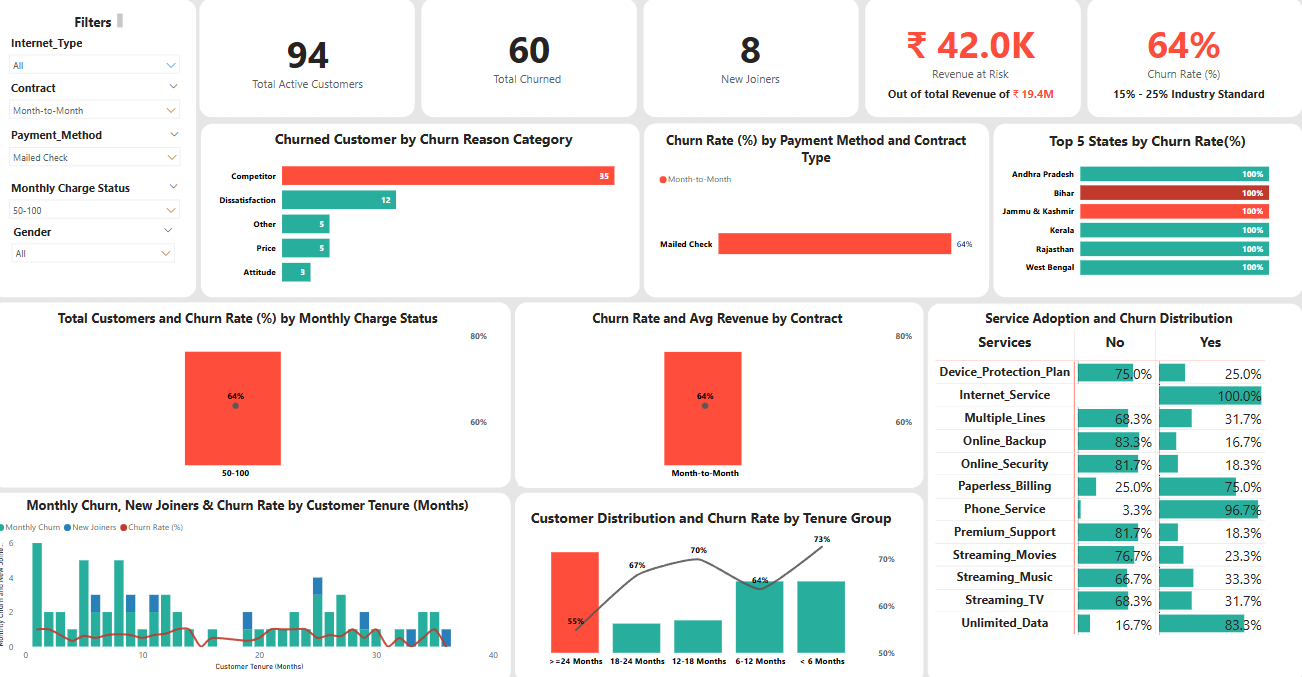

This screenshot's page, from the dashboard's own definition file:
{"tool":"powerbi","page":{"name":"Final Dashboard","canvas":[1920,1080],"ordinal":7},"visuals":[{"type":"slicer","fields":{"Values":["prod_services.Internet_Type"]},"box":[32,128,272,64],"z":0},{"type":"slicer","fields":{"Values":["prod_Churn.Contract"]},"box":[32.3,192.3,272.3,63.8],"z":1000},{"type":"slicer","fields":{"Values":["prod_Churn.Payment_Method"]},"box":[32.3,267.7,272.3,69.2],"z":2000},{"type":"slicer","fields":{"Values":["prod_Churn.Monthly Charge Status"]},"box":[32.3,336.9,272.3,72.3],"z":3000},{"type":"card","fields":{"Values":["tbl_Measures.Total Customers"]},"box":[384,112,176,112],"z":4000},{"type":"card","fields":{"Values":["tbl_Measures.Total Churned Customers"]},"box":[704,96,176,128],"z":5000},{"type":"card","fields":{"Values":["tbl_Measures.Revenue at Risk"]},"box":[1307.4,82.5,248.7,138.3],"z":6000,"group":"g2"},{"type":"card","fields":{"Values":["tbl_Measures.New Joiners"]},"box":[1040,96,144,128],"z":6000},{"type":"card","fields":{"Values":["tbl_Measures.Churn Rate (%)"]},"box":[1642.5,96,194.2,113.1],"z":6000,"group":"g1"},{"type":"barChart","title":"Churned Customer by Churn Reason Category","fields":{"Category":["prod_Churn.Churn_Category"],"Y":["CountNonNull(prod_Churn.Customer_Status)"]},"box":[336.5,267.3,605.2,240.7],"z":7000},{"type":"lineStackedColumnComboChart","title":"Customer Distribution and Churn Rate by Tenure Group","fields":{"Category":["Mapping_TenureGrp.Tenure Group"],"Y":["tbl_Measures.Total Customers"],"Y2":["tbl_Measures.Churn Rate (%)"]},"box":[784,816,544,240],"z":8000},{"type":"lineStackedColumnComboChart","title":"Churn Rate and Avg Revenue by Contract","fields":{"Category":["prod_Churn.Contract"],"Y":["tbl_Measures.Avg Revenue per Customer"],"Y2":["tbl_Measures.Churn Rate (%)"]},"box":[776,528,576,256],"z":9000},{"type":"clusteredBarChart","title":"Churn Rate (%) by Payment Method and Contract Type","fields":{"Category":["prod_Churn.Payment_Method"],"Y":["tbl_Measures.Churn Rate (%)"],"Series":["prod_Churn.Contract"]},"box":[976,272,464,240],"z":10000},{"type":"lineStackedColumnComboChart","title":"Total Customers and Churn Rate (%) by Monthly Charge Status","fields":{"Category":["prod_Churn.Monthly Charge Status"],"Y2":["tbl_Measures.Churn Rate (%)"],"Y":["tbl_Measures.Total Customers"]},"box":[32,528,704,256],"z":11000},{"type":"lineStackedColumnComboChart","title":"Monthly Churn, New Joiners & Churn Rate by Customer Tenure (Months)","fields":{"Category":["Mapping_TenureGrp.Tenure_in_Months"],"Y":["tbl_Measures.Monthly Churn","tbl_Measures.New Joiners"],"Y2":["tbl_Measures.Churn Rate (%)"]},"box":[16,800,736,256],"z":12000},{"type":"pivotTable","title":"Service Adoption and Churn Distribution","fields":{"Rows":["prod_services.Services"],"Columns":["prod_services.Status"],"Values":["Sum(prod_services.Churned status)"]},"box":[1376,528,512,528],"z":13000},{"type":"barChart","title":"Top 5 States by Churn Rate(%)","fields":{"Category":["prod_Churn.State"],"Y":["tbl_Measures.Churn Rate (%)"]},"box":[1472,272,432,224],"z":14000},{"type":"textbox","box":[129.2,88.5,64.6,47.7],"z":15000},{"type":"group","id":"g1","title":"Group 1","box":[1632,96,240,144],"z":16000},{"type":"group","id":"g2","title":"Group 2","box":[1307.4,82.5,268.7,154.3],"z":17000},{"type":"textbox","box":[1307.4,200.9,268.7,35.9],"z":17001,"group":"g2"},{"type":"textbox","box":[1632,201.8,239.4,35.9],"z":17001,"group":"g1"},{"type":"slicer","fields":{"Values":["Mapping_TenureGrp.Tenure Group"]},"box":[32.3,409.2,272.3,80],"z":18000}]}

Visuals, with their boxes on the page's 1920x1080 design canvas (x1, y1, x2, y2). These are canvas units, not pixel positions in the 1302x677 screenshot, which may show the page scaled, cropped or inside an application window:
slicer - prod_services.Internet_Type: region(32, 128, 304, 192)
slicer - prod_Churn.Contract: region(32, 192, 305, 256)
slicer - prod_Churn.Payment_Method: region(32, 268, 305, 337)
slicer - prod_Churn.Monthly Charge Status: region(32, 337, 305, 409)
card - tbl_Measures.Total Customers: region(384, 112, 560, 224)
card - tbl_Measures.Total Churned Customers: region(704, 96, 880, 224)
card - tbl_Measures.Revenue at Risk: region(1307, 82, 1556, 221)
card - tbl_Measures.New Joiners: region(1040, 96, 1184, 224)
card - tbl_Measures.Churn Rate (%): region(1642, 96, 1837, 209)
"Churned Customer by Churn Reason Category" barChart: region(336, 267, 942, 508)
"Customer Distribution and Churn Rate by Tenure Group" lineStackedColumnComboChart: region(784, 816, 1328, 1056)
"Churn Rate and Avg Revenue by Contract" lineStackedColumnComboChart: region(776, 528, 1352, 784)
"Churn Rate (%) by Payment Method and Contract Type" clusteredBarChart: region(976, 272, 1440, 512)
"Total Customers and Churn Rate (%) by Monthly Charge Status" lineStackedColumnComboChart: region(32, 528, 736, 784)
"Monthly Churn, New Joiners & Churn Rate by Customer Tenure (Months)" lineStackedColumnComboChart: region(16, 800, 752, 1056)
"Service Adoption and Churn Distribution" pivotTable: region(1376, 528, 1888, 1056)
"Top 5 States by Churn Rate(%)" barChart: region(1472, 272, 1904, 496)
textbox: region(129, 88, 194, 136)
"Group 1" group: region(1632, 96, 1872, 240)
"Group 2" group: region(1307, 82, 1576, 237)
textbox: region(1307, 201, 1576, 237)
textbox: region(1632, 202, 1871, 238)
slicer - Mapping_TenureGrp.Tenure Group: region(32, 409, 305, 489)
